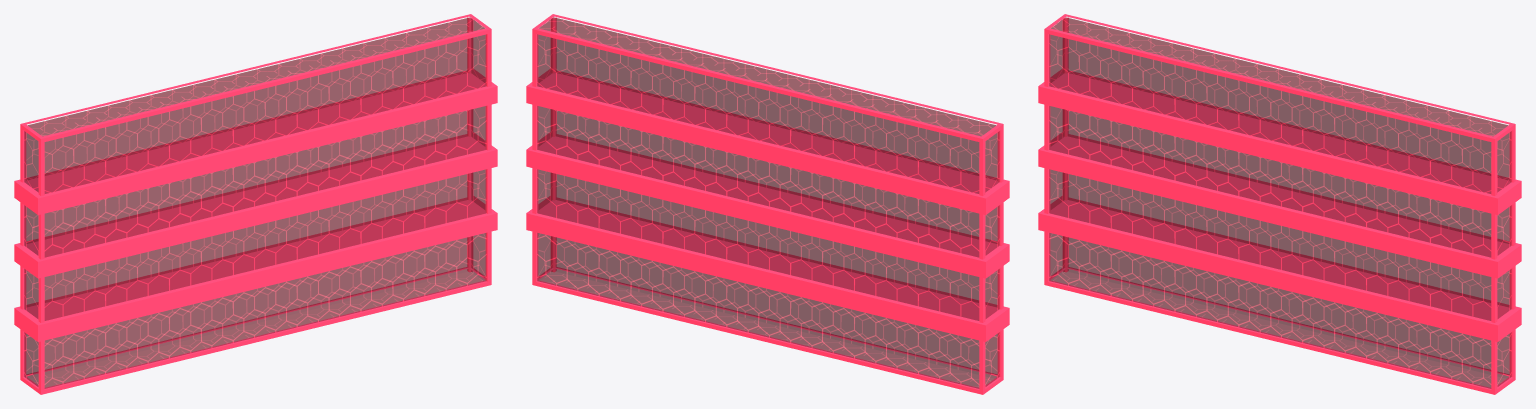
Rendered from kb_gate_upper.glb.
The picture shows the model from 3 angles, left to right: view 1: azimuth 30°, elevation 25°; view 2: azimuth 150°, elevation 25°; view 3: azimuth 330°, elevation 25°; orthographic projection.
Visible parts, largest first — view 1: skin; view 2: skin; view 3: skin.
Boxes of the visible parts, x1,y1,x2,y2 form: skin: [14, 14, 497, 394]; skin: [526, 14, 1009, 394]; skin: [1038, 14, 1521, 394].
Size of the model in its own units: 14.4 by 7.66 by 1.3.
